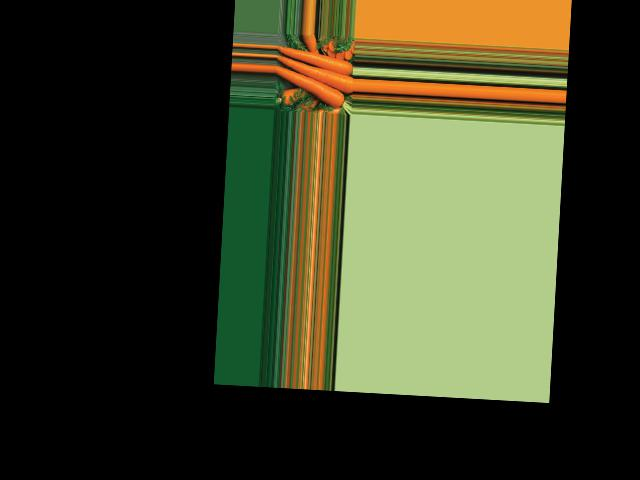carrot: (275, 65, 344, 109)
